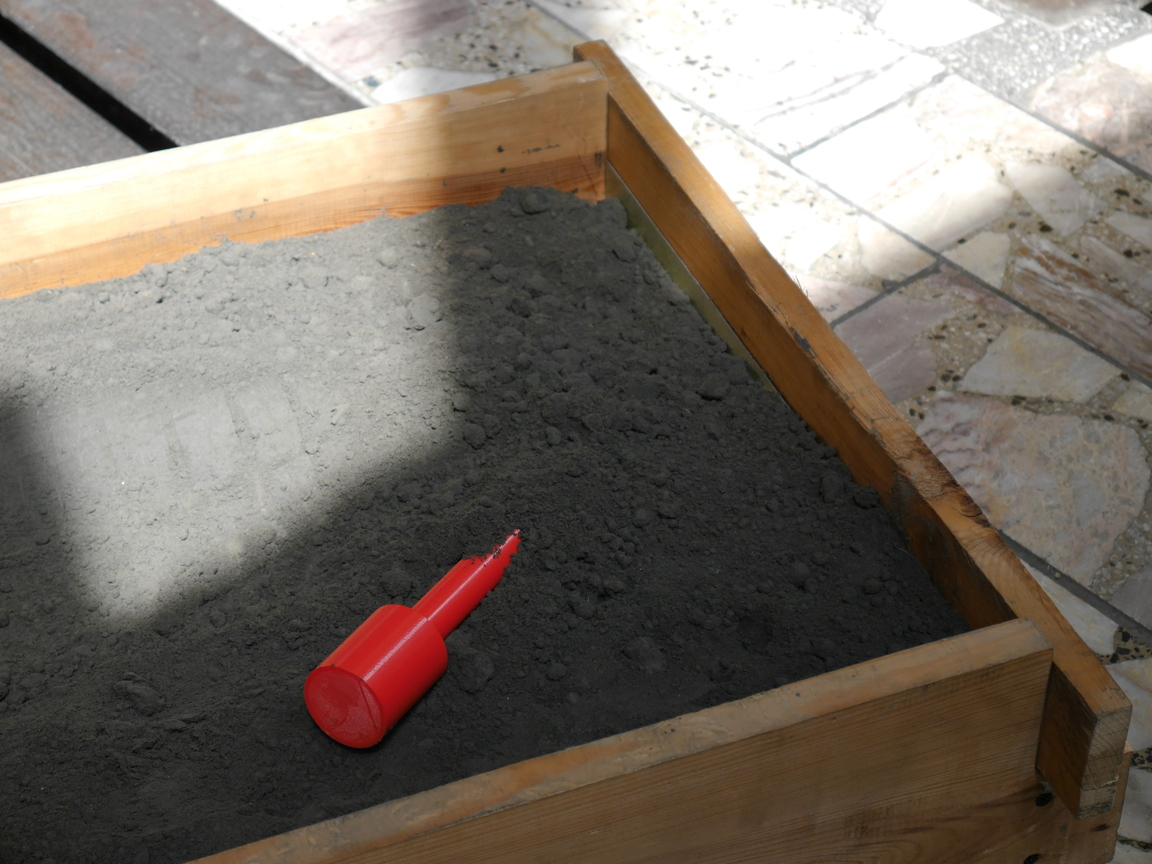cargo_g: (303, 527, 523, 749)
